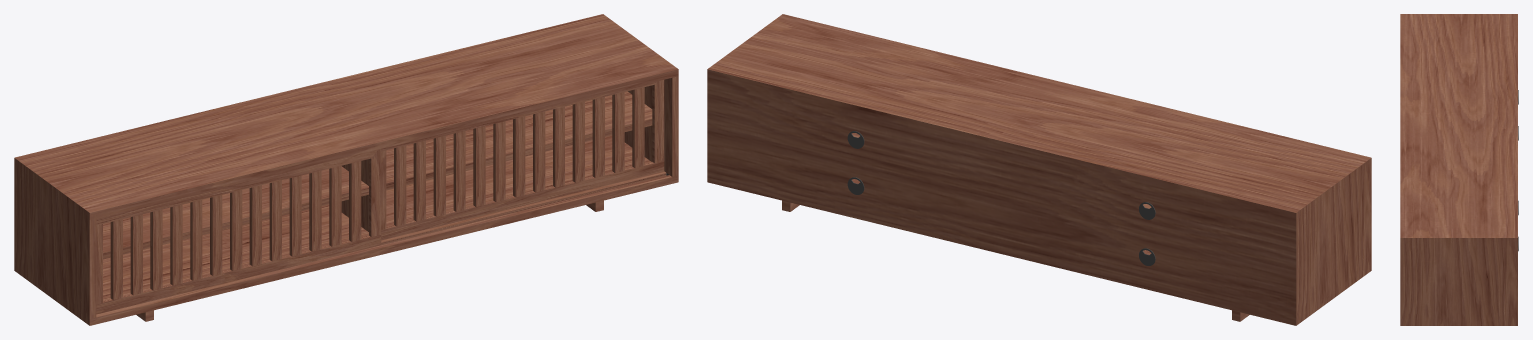
Rendered from luka_tvconsole.gltf.
3 renders of one model, left to right at view 1: azimuth 30°, elevation 25°; view 2: azimuth 150°, elevation 25°; view 3: azimuth 270°, elevation 25°, orthographic. The views are drawn at different scales.
Parts seen in each view (by area): view 1: Mesh; view 2: Mesh; view 3: Mesh.
Part boxes in pixels (x1,y1,x2,y2): Mesh: (14,14,678,325); Mesh: (707,14,1371,325); Mesh: (1400,14,1518,325).
Size of the model in its own units: 1.8 by 0.39 by 0.402.
Materials: 1 (1 with a texture image).
